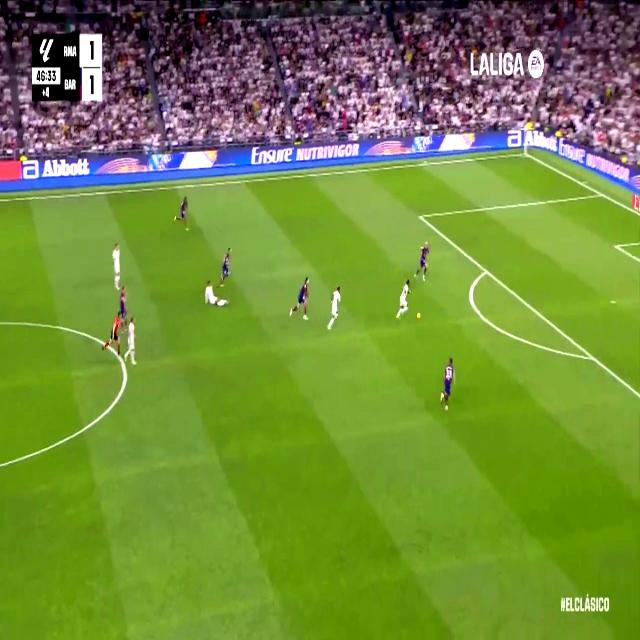bigarea_top_inner: (417, 209, 423, 223)
bigarea_top_outter: (596, 186, 605, 200)
bottom_arc_area_intersection: (586, 346, 597, 367)
corner: (520, 147, 530, 159)
smallarea_top_inner: (612, 237, 620, 254)
top_arc_area_intersection: (482, 261, 491, 279)
